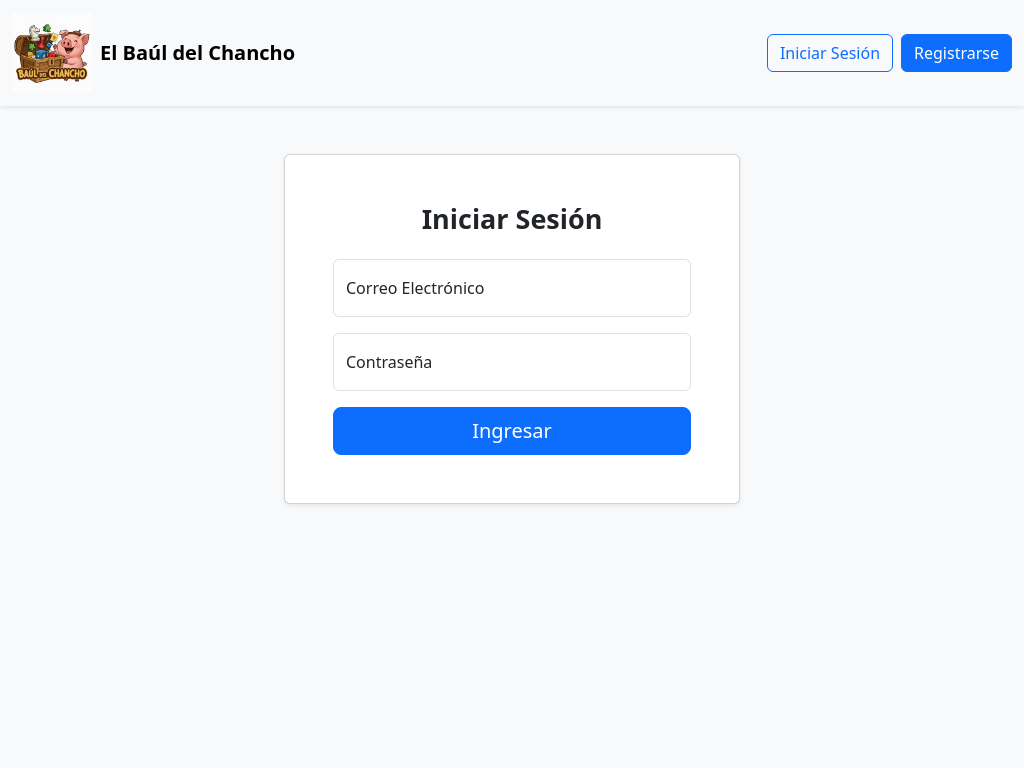
Test: 10. Admin can log in and view user list
Type "admin@profesor.duoc.cl" into the field labelled "Correo Electrónico" at (512, 288), box x1=333 y1=259 x2=691 y2=317
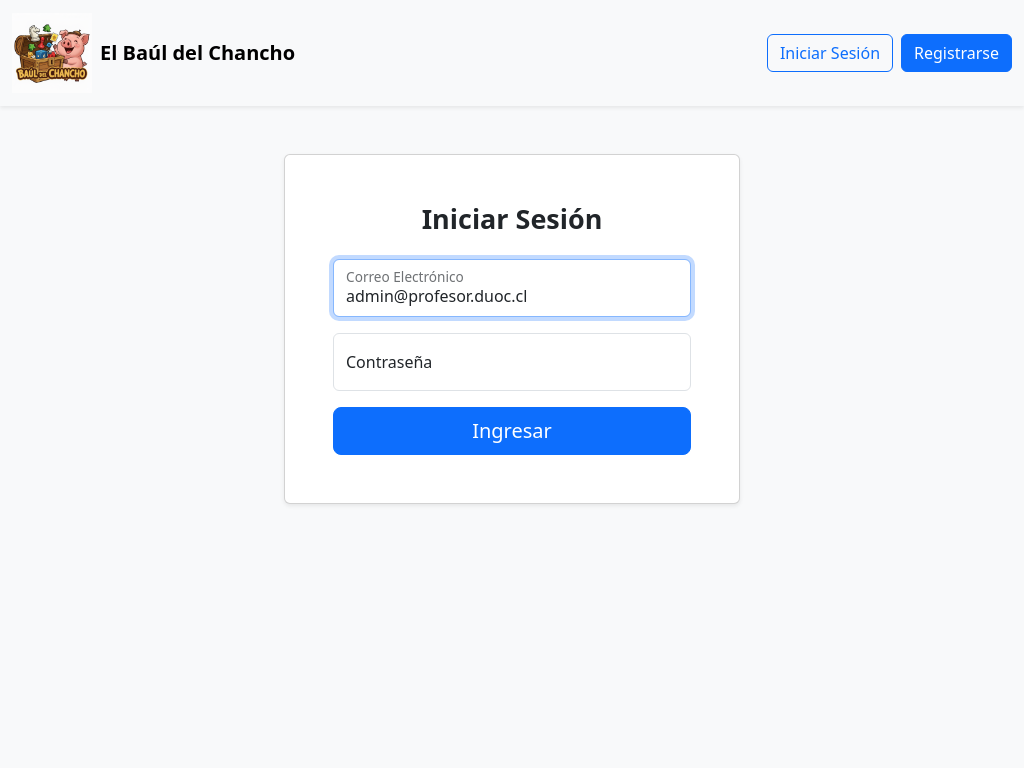
Type "123" into the password field labelled "Contraseña" at (512, 362), box x1=333 y1=333 x2=691 y2=391
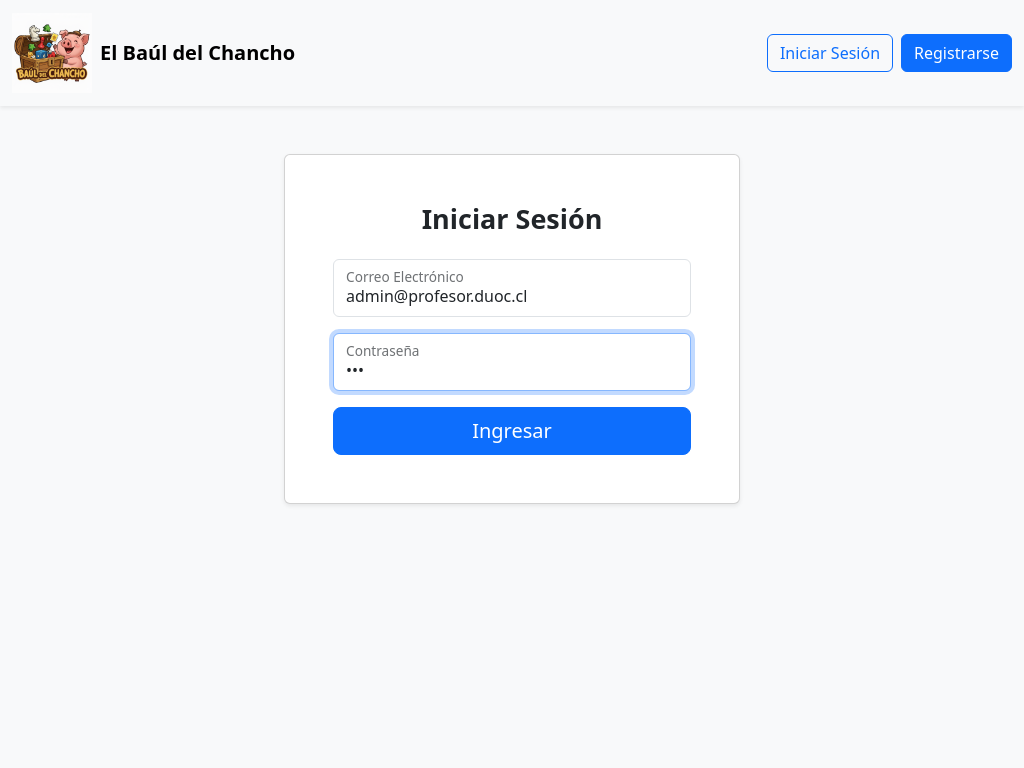
Click the button "Ingresar" at (512, 431), box x1=333 y1=407 x2=691 y2=455
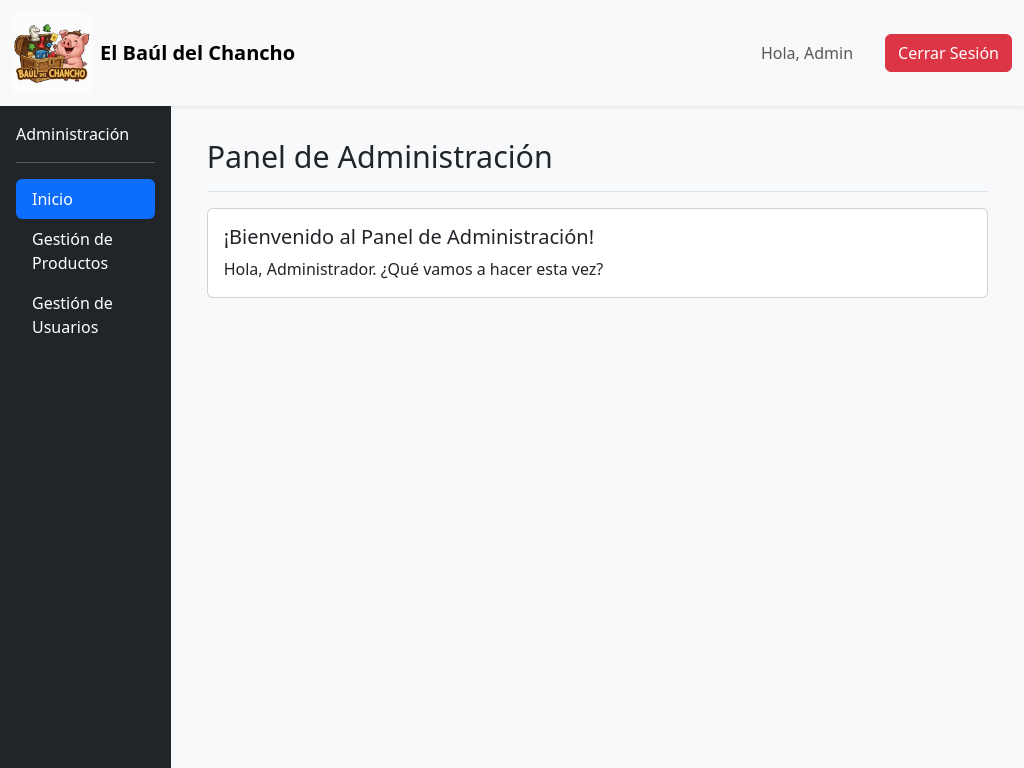
expect the heading "Panel de Administración" is shown: met, box x1=207 y1=138 x2=553 y2=174
Click the link "Gestión de Usuarios" at (72, 315), box x1=32 y1=292 x2=113 y2=338
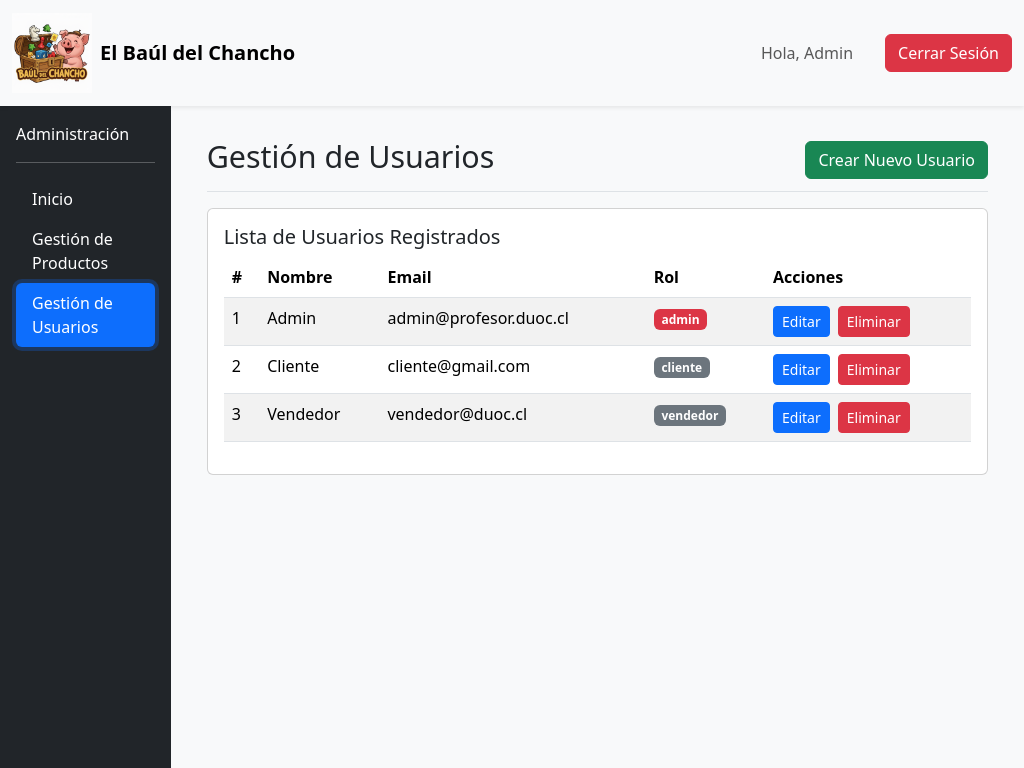
expect the heading "Gestión de Usuarios" is shown: met, box x1=207 y1=138 x2=494 y2=174
expect the text "admin@profesor.duoc.cl" is shown: met, box x1=380 y1=297 x2=646 y2=345
expect the text "cliente@gmail.com" is shown: met, box x1=380 y1=345 x2=646 y2=393
